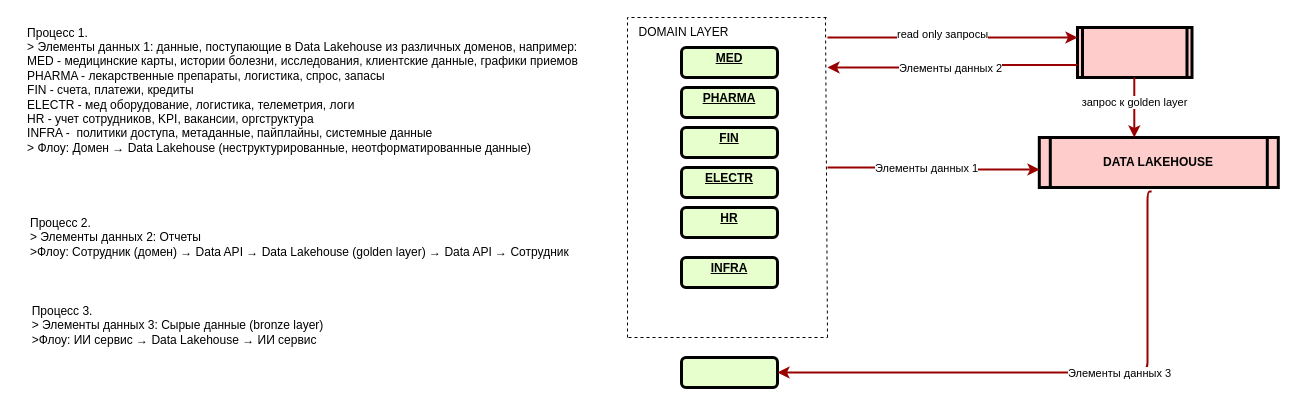
This 1297x406 diagram has some shape labels left out. The centre of each missing label's shape, as x and y in pixels:
"AI" goes at pixel 729 372.
"DATA API" goes at pixel 1134 52.
